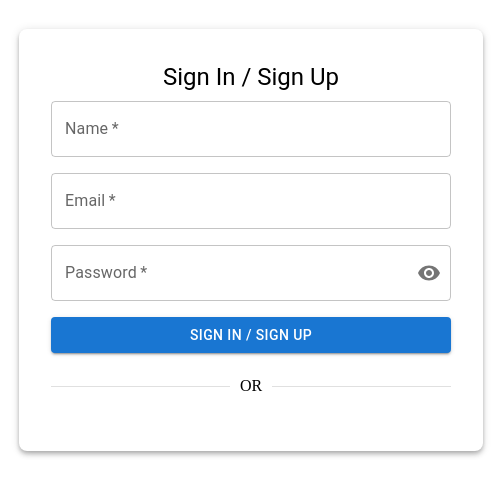
Test: AuthPage › Form Validation › Password Validation › shows error for password less than 8 characters
This screenshot has width=503, height=486.
In the password field labelled "Password *": (226, 273) [51, 245, 401, 301], type "short"
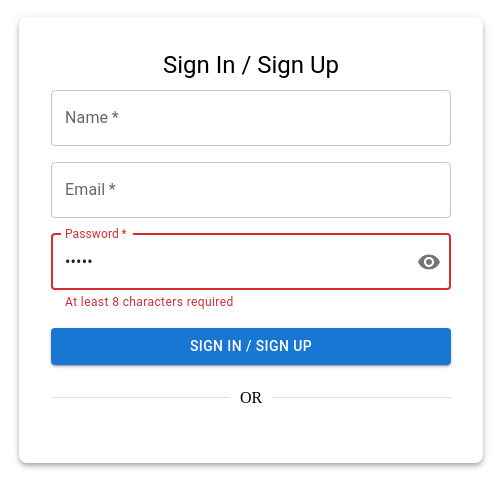
Now the text "At least 8 characters required" is shown, box [65, 294, 234, 308]
